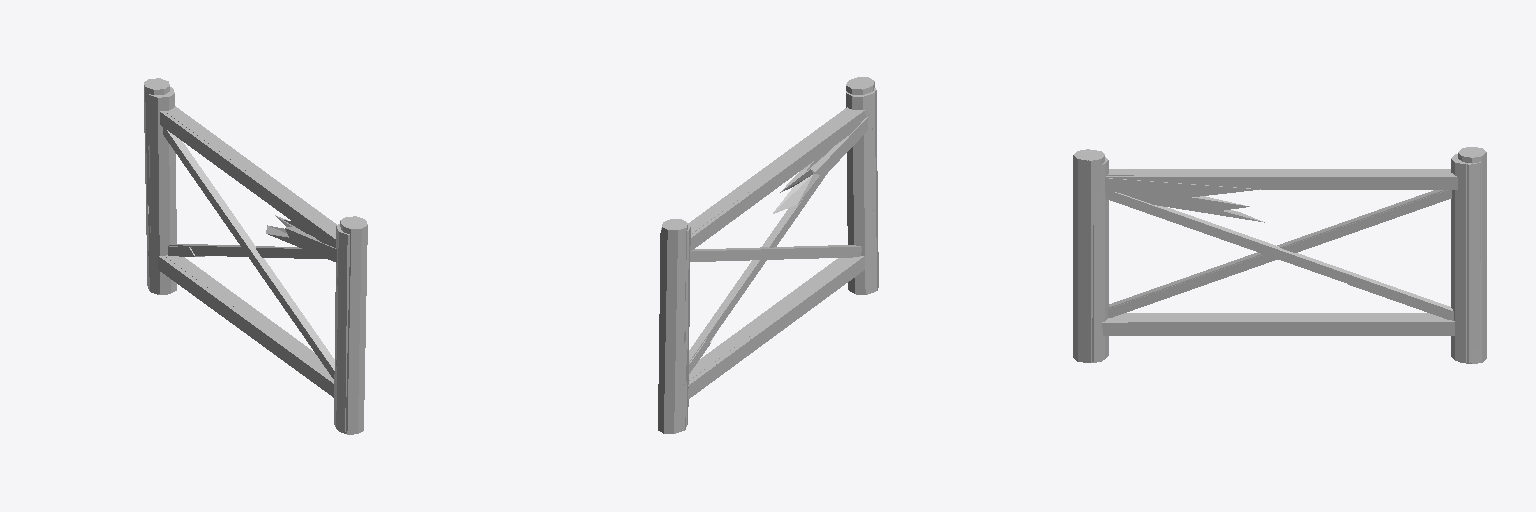
File: woodRailing.obj
3 views of the same model, side by side, from view 1: azimuth 30°, elevation 25°; view 2: azimuth 150°, elevation 25°; view 3: azimuth 270°, elevation 25° (orthographic).
Visible parts, largest first — view 1: wood_railing_b, wood_railing_a, wood_railing_c, wood_railing_d; view 2: wood_railing_a, wood_railing_b, wood_railing_c, wood_railing_d; view 3: wood_railing_a, wood_railing_b, wood_railing_d, wood_railing_c.
Part boxes in pixels (bbox=[...]): wood_railing_b: bbox=[149, 88, 367, 434]; wood_railing_a: bbox=[144, 78, 342, 426]; wood_railing_c: bbox=[148, 206, 349, 431]; wood_railing_d: bbox=[148, 87, 366, 382]; wood_railing_a: bbox=[658, 91, 873, 433]; wood_railing_b: bbox=[685, 77, 878, 426]; wood_railing_c: bbox=[683, 88, 878, 430]; wood_railing_d: bbox=[659, 78, 874, 398]; wood_railing_a: bbox=[1092, 147, 1486, 363]; wood_railing_b: bbox=[1073, 149, 1471, 362]; wood_railing_d: bbox=[1079, 150, 1480, 362]; wood_railing_c: bbox=[1105, 193, 1468, 363].
Size of the model in its own units: 5.12 by 34.09 by 62.4.